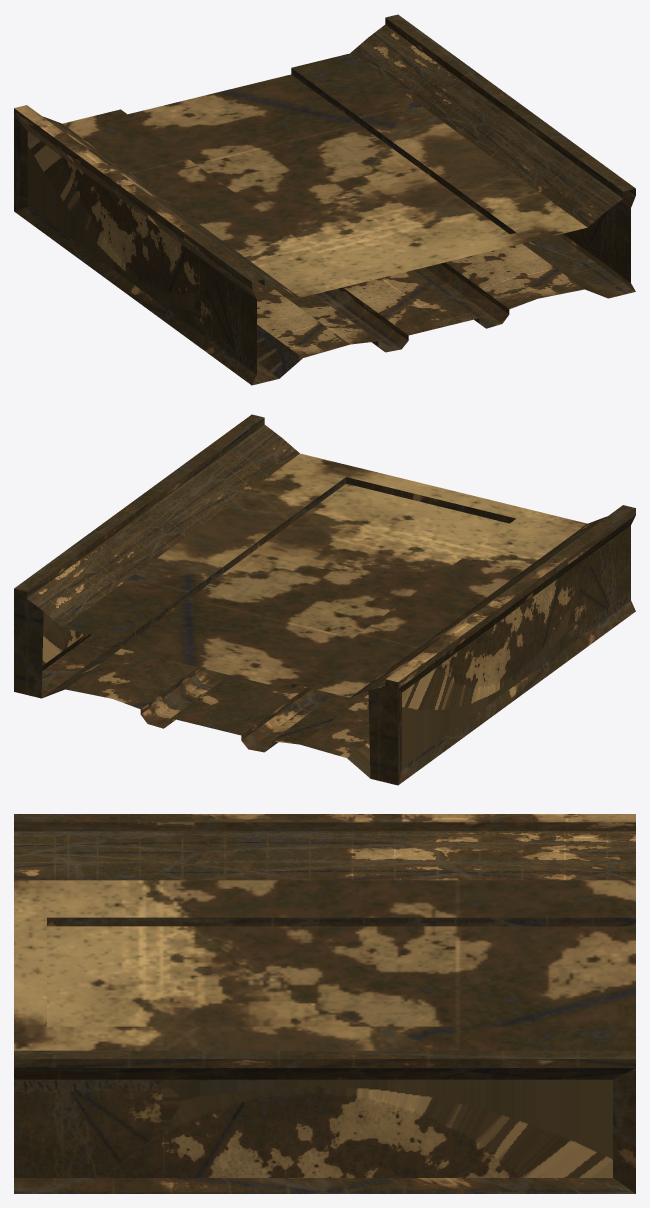
Rendered from platformPrefabStraightHalfLeft.fbx.
3 views of the same model, one above another, from view 1: azimuth 30°, elevation 25°; view 2: azimuth 150°, elevation 25°; view 3: azimuth 270°, elevation 25° (orthographic). The views are drawn at different scales.
Parts seen in each view (by area): view 1: platformPrefabStraight; view 2: platformPrefabStraight; view 3: platformPrefabStraight.
Boxes of the visible parts, <box> form: platformPrefabStraight: <box>14,14,635,385</box>; platformPrefabStraight: <box>14,414,635,785</box>; platformPrefabStraight: <box>14,814,635,1193</box>.
Size of the model in its own units: 186 by 47.89 by 199.
